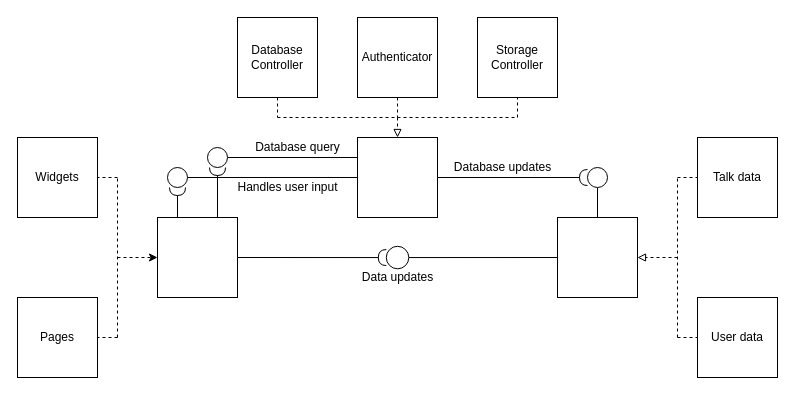
The diagram is 795 pixels wide and 395 high, and some of its shapes have lost their labels. Here are the shapes that lost their labels. From the top down, the centre of each, then its label:
point (397, 177): Controller
point (197, 257): View
point (597, 257): Model
